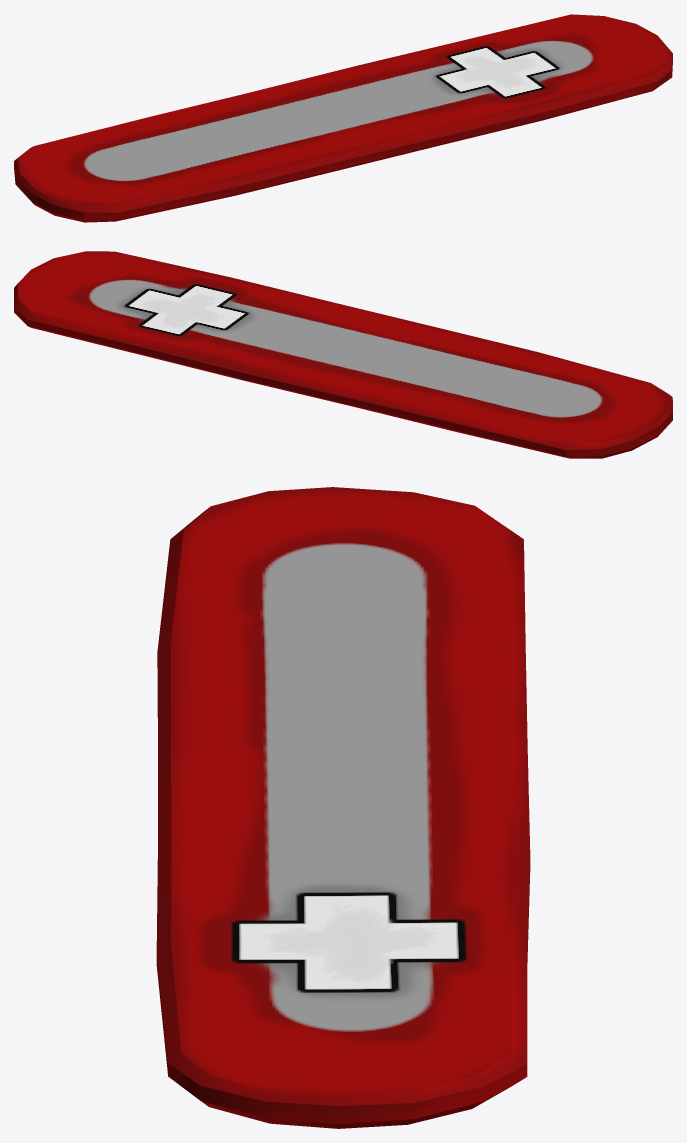
File: MainWing2.FBX
3 views of the same model, one above another, from view 1: azimuth 30°, elevation 25°; view 2: azimuth 150°, elevation 25°; view 3: azimuth 270°, elevation 25° (orthographic). The views are drawn at different scales.
Visible parts, largest first — view 1: MainWing002; view 2: MainWing002; view 3: MainWing002.
Boxes of the visible parts, x1,y1,x2,y2 form: MainWing002: (14, 14, 672, 222); MainWing002: (14, 251, 672, 458); MainWing002: (156, 487, 530, 1128).
Size of the model in its own units: 58.03 by 1.46 by 14.91.
Materials: 1 (1 with a texture image).
